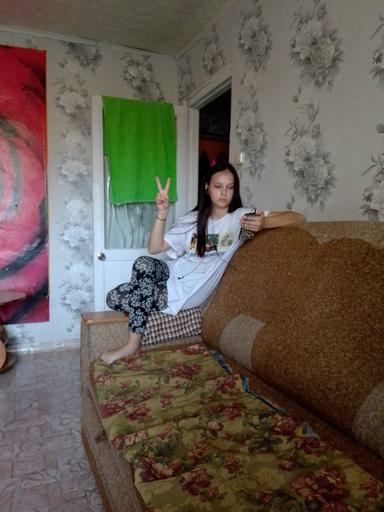peace: (153, 174, 174, 215)
